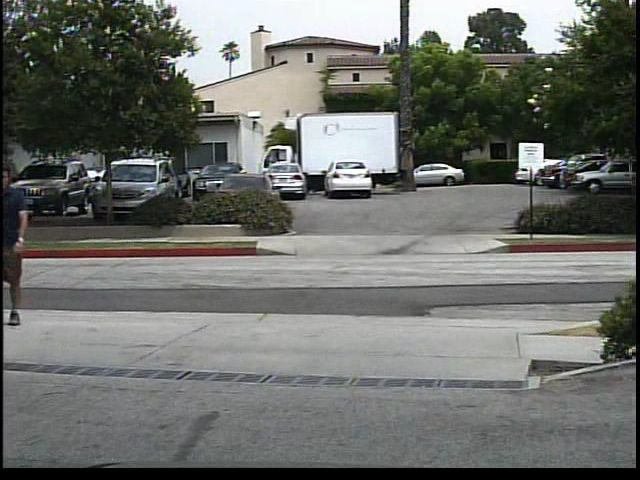person: (0, 161, 41, 329)
